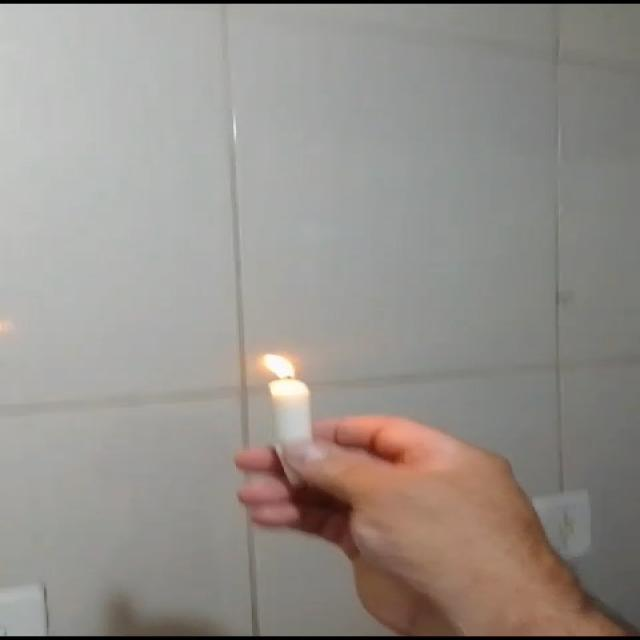fogo-ypXI: (255, 352, 303, 380)
